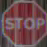Stop: (3, 1, 46, 44)
